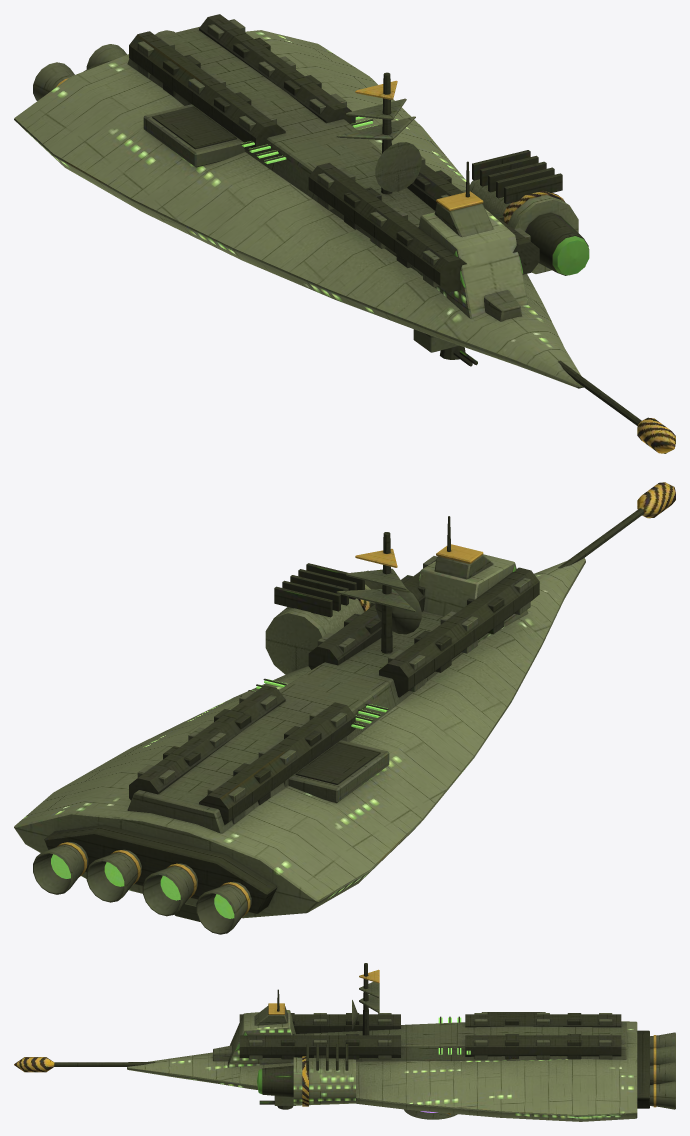
Rendered from krell_picket.glb.
3 renders of one model, top to bottom at view 1: azimuth 30°, elevation 25°; view 2: azimuth 150°, elevation 25°; view 3: azimuth 270°, elevation 25°, orthographic. The views are drawn at different scales.
Parts seen in each view (by area): view 1: HULL, SYS_BUS_A, SYS_BUS_F, SYS_WPN1, SYS_BRIDGE, SYS_SENSORS, SYS_DRIVE, SYS_PD; view 2: HULL, SYS_DRIVE, SYS_BUS_A, SYS_BUS_F, SYS_WPN1, SYS_BRIDGE, SYS_SENSORS; view 3: HULL, SYS_BUS_A, SYS_BUS_F, SYS_WPN1, SYS_DRIVE, SYS_BRIDGE, SYS_SENSORS, SYS_DAMP, SYS_PD.
Part boxes in pixels (<box>): HULL: <box>14,26,675,453</box>; SYS_BUS_A: <box>129,14,355,153</box>; SYS_BUS_F: <box>308,156,539,292</box>; SYS_WPN1: <box>469,150,589,275</box>; SYS_BRIDGE: <box>415,161,527,318</box>; SYS_SENSORS: <box>336,72,421,194</box>; SYS_DRIVE: <box>33,30,174,100</box>; SYS_PD: <box>413,329,477,366</box>; HULL: <box>14,482,675,918</box>; SYS_DRIVE: <box>33,825,277,934</box>; SYS_BUS_A: <box>129,685,355,824</box>; SYS_BUS_F: <box>308,556,539,697</box>; SYS_WPN1: <box>265,563,382,674</box>; SYS_BRIDGE: <box>419,516,527,642</box>; SYS_SENSORS: <box>336,532,421,653</box>; HULL: <box>14,1012,637,1121</box>; SYS_BUS_A: <box>465,1013,621,1059</box>; SYS_BUS_F: <box>239,1013,400,1059</box>; SYS_WPN1: <box>257,1044,355,1106</box>; SYS_DRIVE: <box>637,1030,675,1109</box>; SYS_BRIDGE: <box>227,989,295,1067</box>; SYS_SENSORS: <box>352,963,379,1035</box>; SYS_DAMP: <box>404,1109,457,1119</box>; SYS_PD: <box>259,1096,295,1109</box>.
Size of the model in its own units: 9.56 by 7 by 28.18.
1 material, 1 textured.
